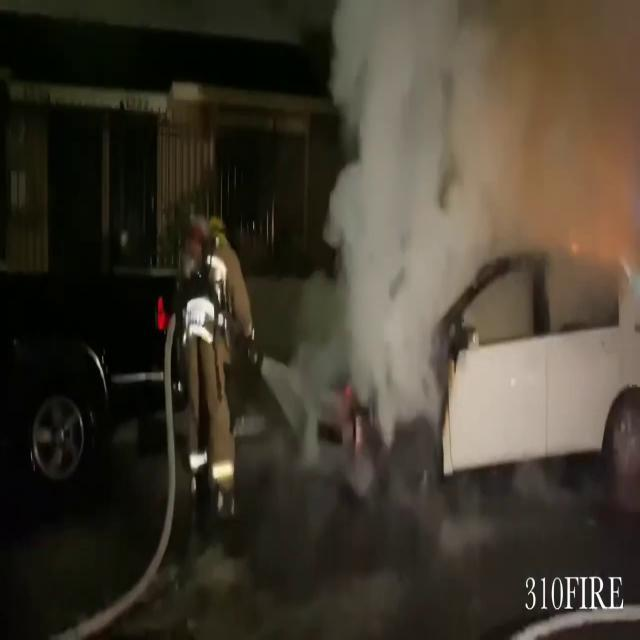Smoke: (292, 0, 640, 449)
